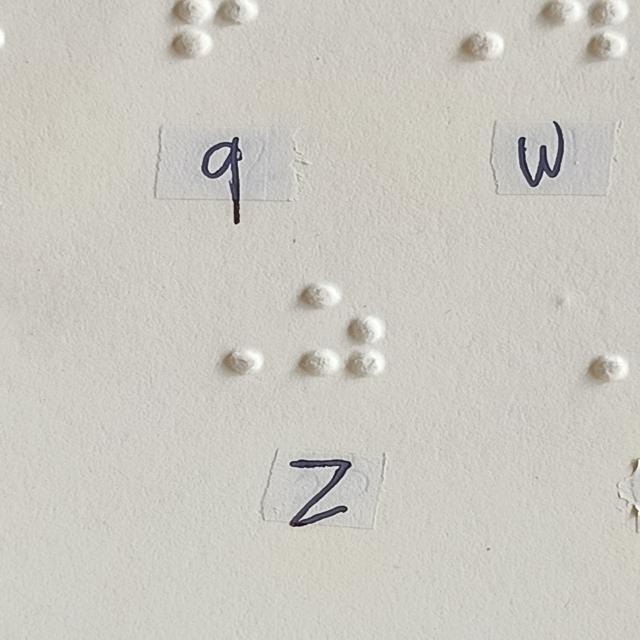capital_sign: (182, 281, 266, 375)
letter_Z: (300, 284, 385, 378)
